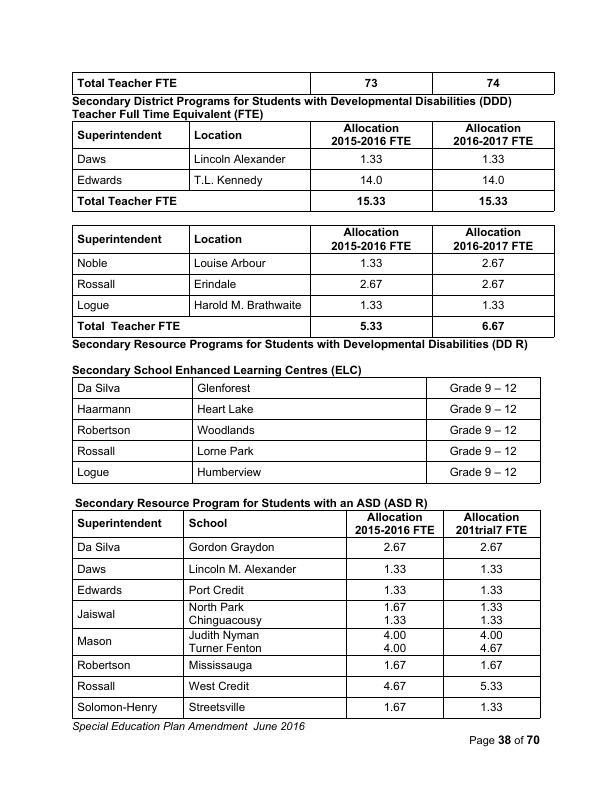table: (70, 508, 546, 722), (68, 220, 558, 339), (69, 375, 545, 487), (69, 118, 563, 214), (67, 70, 558, 96)
text: (68, 96, 521, 120), (68, 339, 535, 353), (70, 495, 431, 509), (71, 362, 363, 376), (72, 721, 310, 734), (463, 731, 544, 752)
